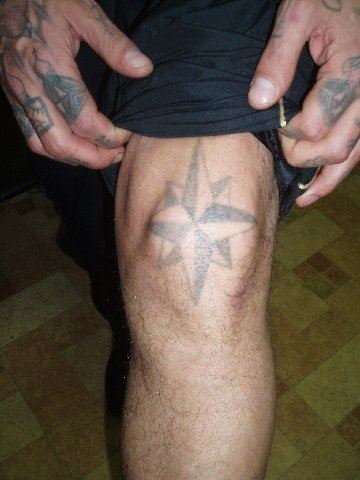tatu4_zvezda: (142, 139, 258, 298)
